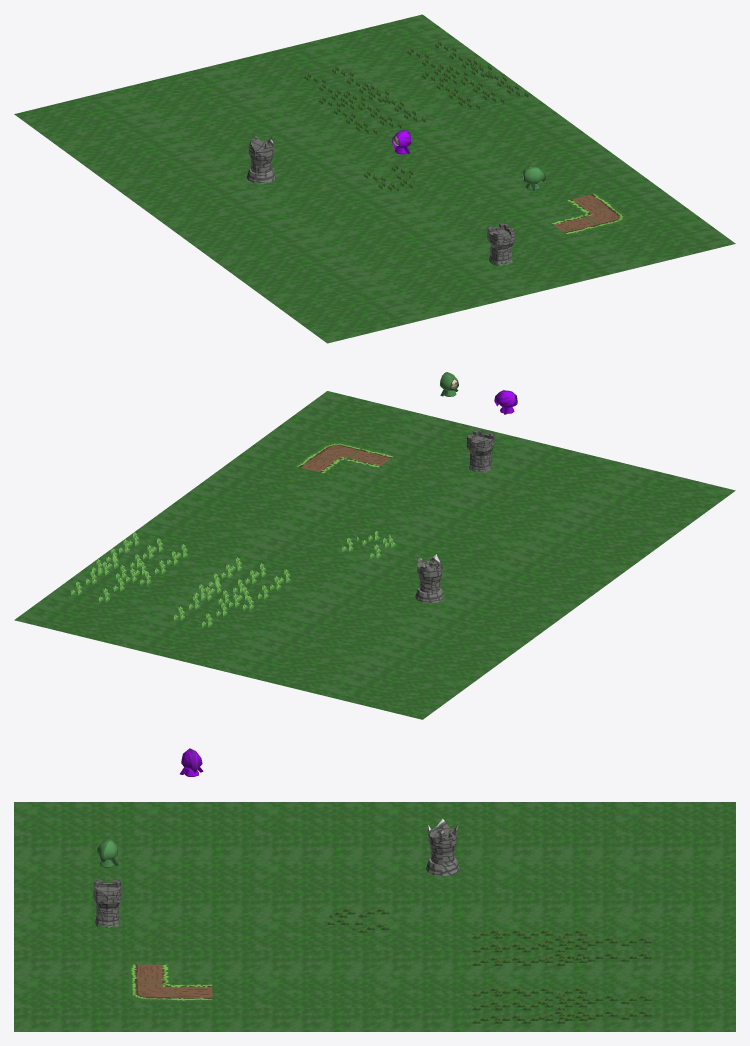
File: aio.fbx
3 renders of one model, top to bottom at view 1: azimuth 30°, elevation 25°; view 2: azimuth 150°, elevation 25°; view 3: azimuth 270°, elevation 25°, orthographic. The views are drawn at different scales.
Parts seen in each view (by area): view 1: Ground, Grass.012, Tower2, Tower1, Plane.009, Plane.011, Plane.010; view 2: Ground, Grass.012, Tower2, Tower1, Plane.009, Plane.011, Plane.010; view 3: Ground, Grass.012, Tower2, Tower1, Plane.011, Plane.009, Plane.010, Grass.006, Archer, Magician.
Boxes of the visible parts, x1,y1,x2,y2 form: Ground: (14, 14, 735, 343); Grass.012: (304, 39, 528, 134); Tower2: (246, 135, 275, 183); Tower1: (487, 223, 514, 266); Plane.009: (566, 193, 614, 213); Plane.011: (550, 214, 599, 235); Plane.010: (583, 206, 627, 227); Ground: (14, 391, 735, 719); Grass.012: (71, 532, 290, 627); Tower2: (415, 554, 444, 603); Tower1: (467, 429, 494, 472); Plane.009: (294, 453, 342, 473); Plane.011: (346, 447, 394, 468); Plane.010: (313, 441, 362, 460); Ground: (14, 802, 735, 1031); Grass.012: (472, 928, 652, 1023); Tower2: (426, 819, 459, 876); Tower1: (93, 879, 122, 927); Plane.011: (128, 964, 170, 982); Plane.009: (170, 984, 212, 1001); Plane.010: (128, 983, 170, 1000); Grass.006: (327, 907, 389, 932); Archer: (96, 839, 118, 867); Magician: (180, 748, 203, 776).
Bounding box in the file's own units: 12.98 × 3.66 × 17.24.
8 materials, 8 textured.
